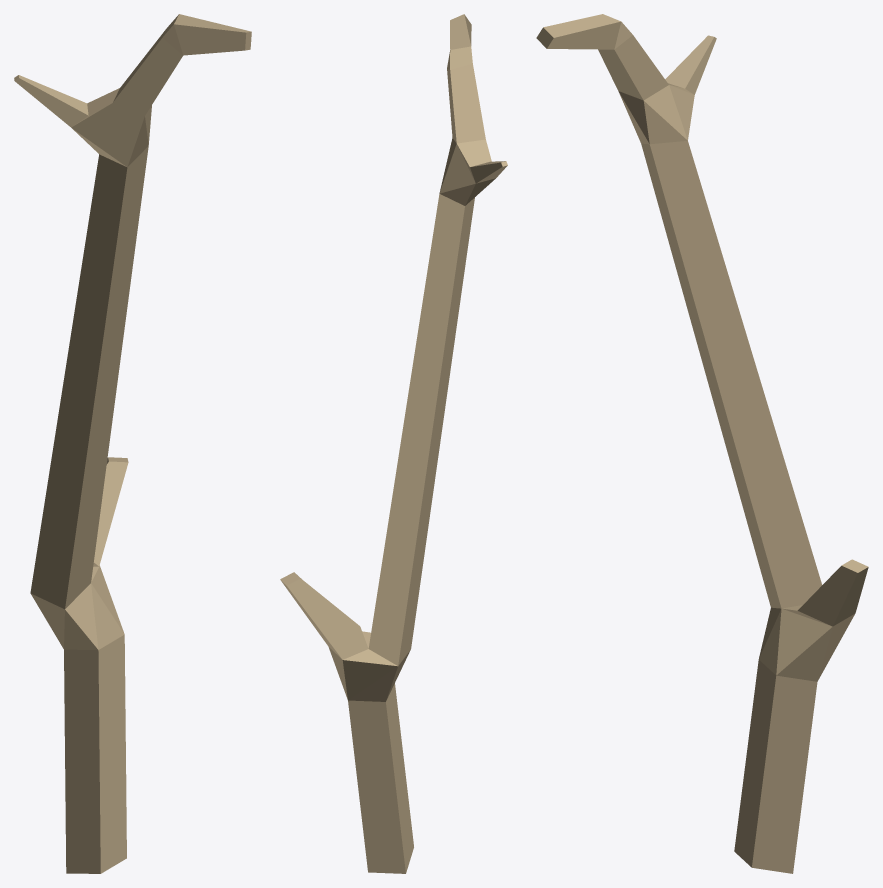
The model's file is stick_02_coco.fbx.
The picture shows the model from 3 angles, left to right: view 1: azimuth 30°, elevation 25°; view 2: azimuth 150°, elevation 25°; view 3: azimuth 270°, elevation 25°; orthographic projection. The views are drawn at different scales.
Parts seen in each view (by area): view 1: Cube; view 2: Cube; view 3: Cube.
Part boxes in pixels (<box>): Cube: <box>14,14,251,873</box>; Cube: <box>280,14,507,873</box>; Cube: <box>536,14,868,873</box>.
Size of the model in its own units: 14.26 by 65.16 by 22.95.
